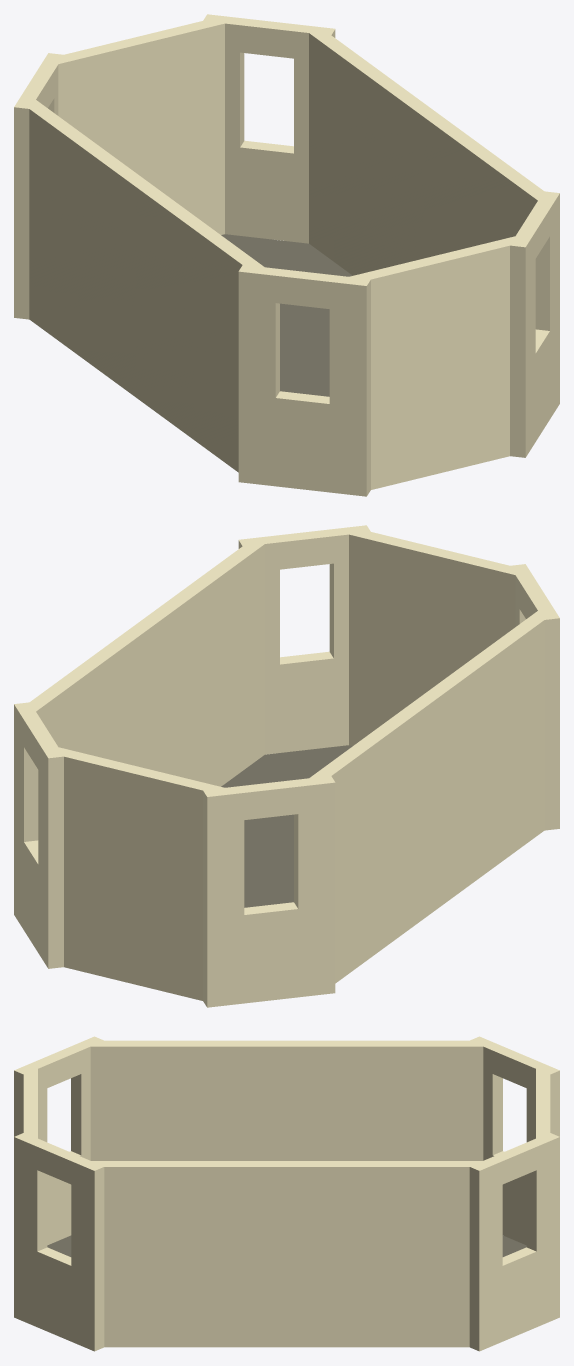
File: ThirdRoom_walls.glb
3 renders of one model, top to bottom at view 1: azimuth 30°, elevation 25°; view 2: azimuth 150°, elevation 25°; view 3: azimuth 270°, elevation 25°, orthographic. The views are drawn at different scales.
Visible parts, largest first — view 1: pasted__pCube2, pasted__pCube1, pasted__pCube3, pasted__Cube31, pasted__pCube4, pasted__Cube29, pasted__Cube30, pasted__floor, pasted__Cube28; view 2: pasted__pCube2, pasted__pCube1, pasted__pCube4, pasted__Cube28, pasted__pCube3, pasted__Cube30, pasted__Cube29, pasted__floor, pasted__Cube31; view 3: pasted__pCube1, pasted__pCube2, pasted__Cube29, pasted__Cube30, pasted__Cube28, pasted__Cube31, pasted__pCube4, pasted__pCube3, pasted__floor.
Boxes of the visible parts, x1,y1,x2,y2 form: pasted__pCube2: (20,98,264,472); pasted__pCube1: (307,28,553,275); pasted__pCube3: (349,236,514,489); pasted__Cube31: (238,265,370,496); pasted__pCube4: (51,17,227,234); pasted__Cube29: (203,14,335,243); pasted__Cube30: (509,191,559,457); pasted__floor: (221,234,352,396); pasted__Cube28: (14,53,63,319); pasted__pCube2: (308,609,553,983); pasted__pCube1: (30,540,264,786); pasted__pCube4: (47,746,225,1000); pasted__Cube28: (203,776,335,1007); pasted__pCube3: (349,532,515,745); pasted__Cube30: (238,525,370,754); pasted__Cube29: (14,702,63,968); pasted__floor: (221,745,352,907); pasted__Cube31: (510,564,559,830); pasted__pCube1: (88,1161,483,1347); pasted__pCube2: (87,1040,485,1160); pasted__Cube29: (469,1133,559,1351); pasted__Cube30: (14,1133,104,1351); pasted__Cube28: (470,1036,559,1245); pasted__Cube31: (14,1036,103,1245); pasted__pCube4: (536,1067,550,1139); pasted__pCube3: (23,1069,37,1138); pasted__floor: (47,1235,526,1256).
Size of the model in its own units: 17.34 by 10.86 by 29.75.
